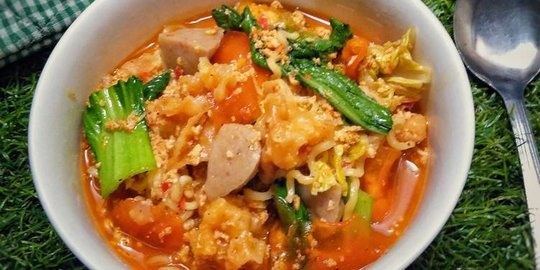seblak: (80, 4, 432, 270)
